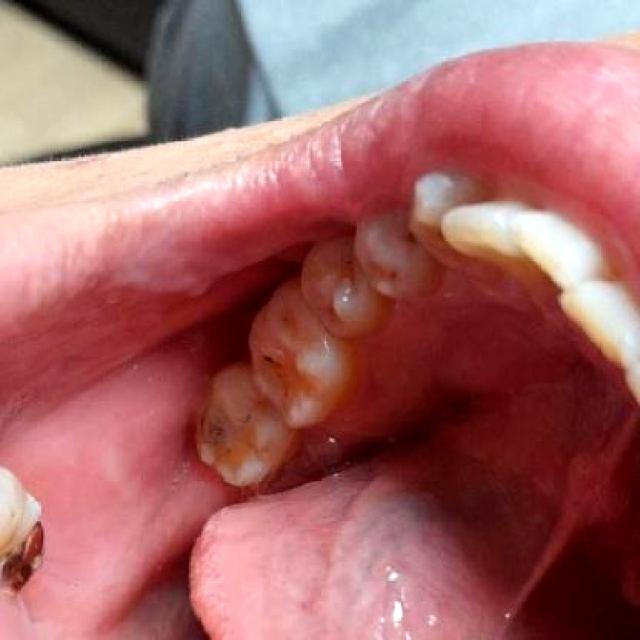Plaque: (338, 260, 361, 293), (254, 349, 283, 372), (232, 409, 255, 430), (399, 229, 418, 254), (206, 426, 228, 444)
